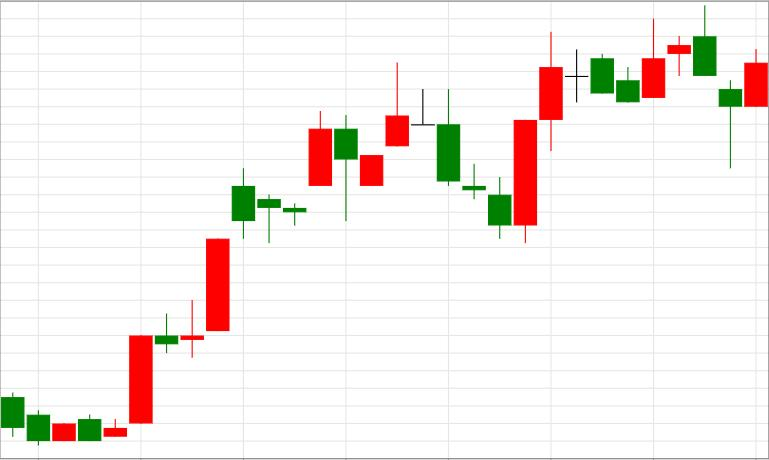bullish_engulfing_rise: (411, 88, 537, 243)
